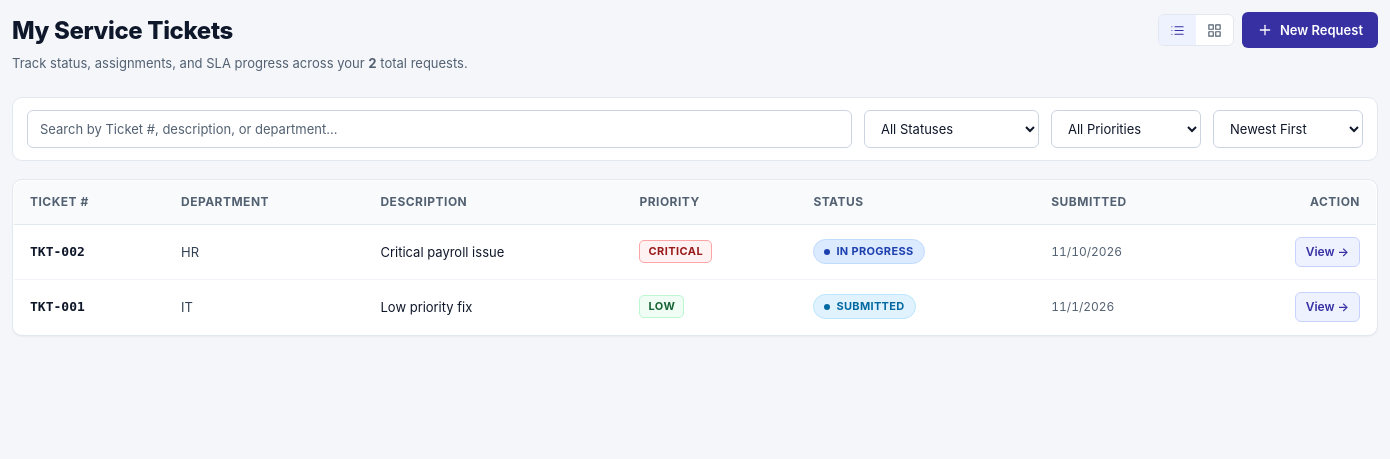
Test case: P9.6.1 Critical Frontend Workflow & Branch Coverage Suite › ServiceCatalog, MyTickets & Notifications workflows › MyTickets supports Table/Card toggle, priority sort, status filter & empty state
Expected: the text "TKT-001" is shown, [14,279,165,334]
Switch to Card view & sort by Highest Priority
Click the button named "Card view".
click(1214, 30)  # box [1196,15,1233,45]
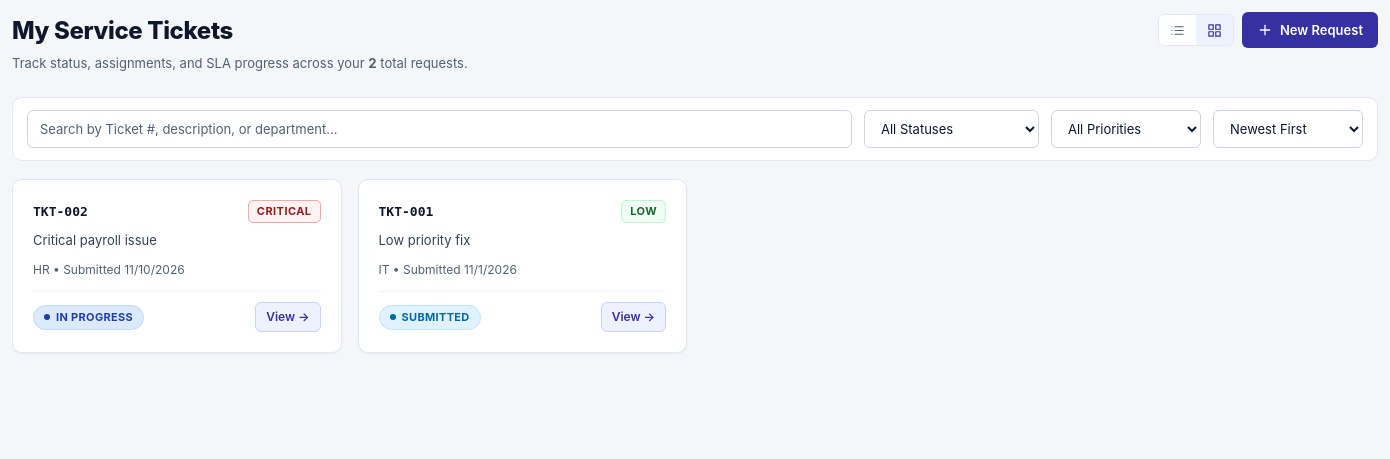
Select "Highest Priority" in the dropdown named "Sort tickets" at (1288, 129), box [1213,110,1363,148]
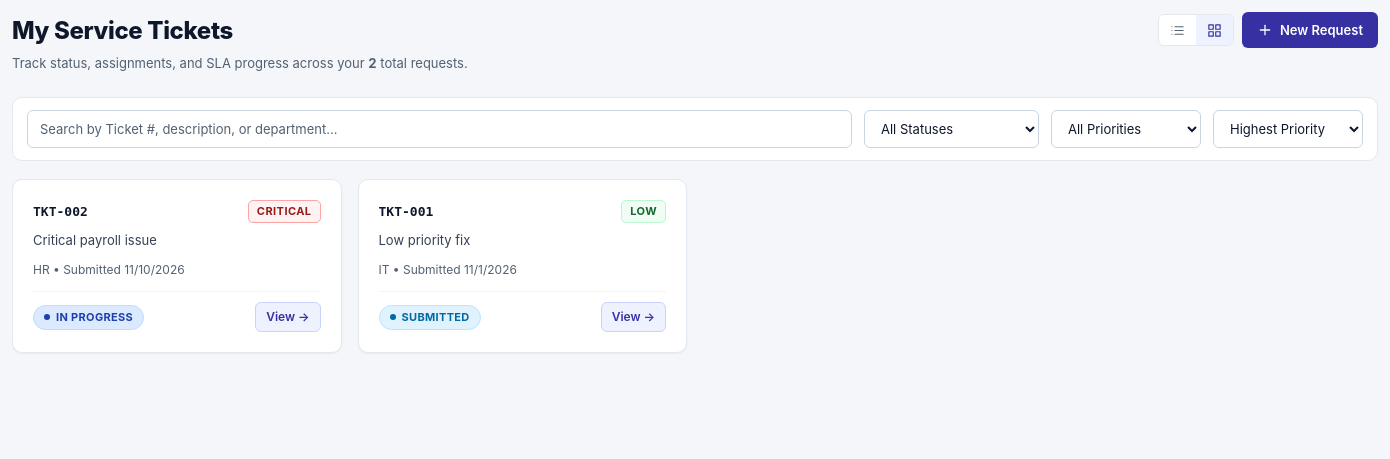
Expected: the text "Critical payroll issue" is shown, [33,232,157,248]
Filter by status & search empty state
Select "Resolved" in the dropdown named "Filter by ticket status" at (952, 129), box [864,110,1039,148]
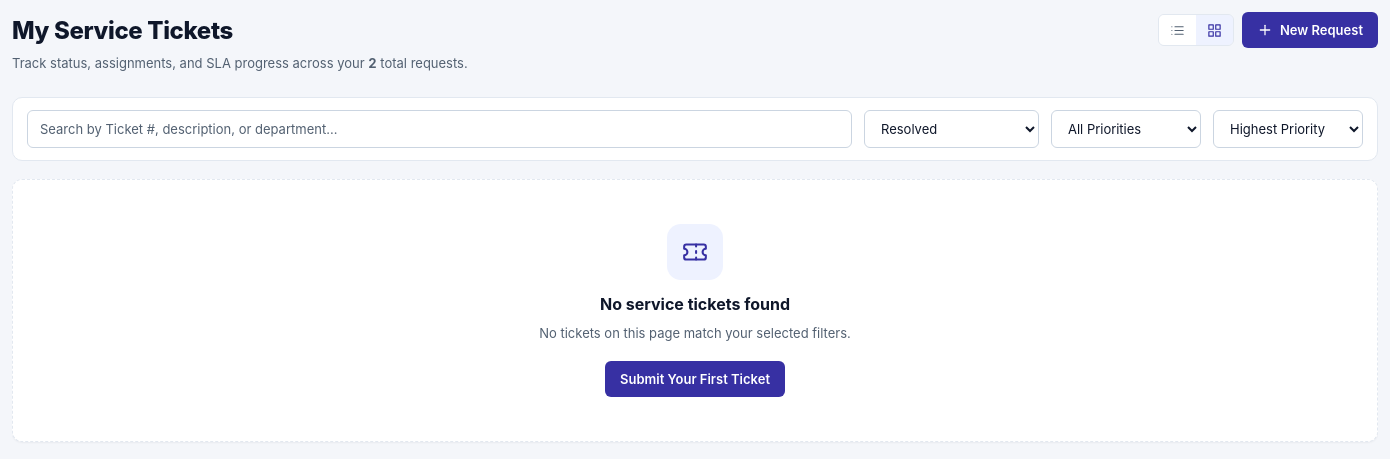
Now the text "No tickets on this page match your selected filters." is shown, box [539,325,851,341]
